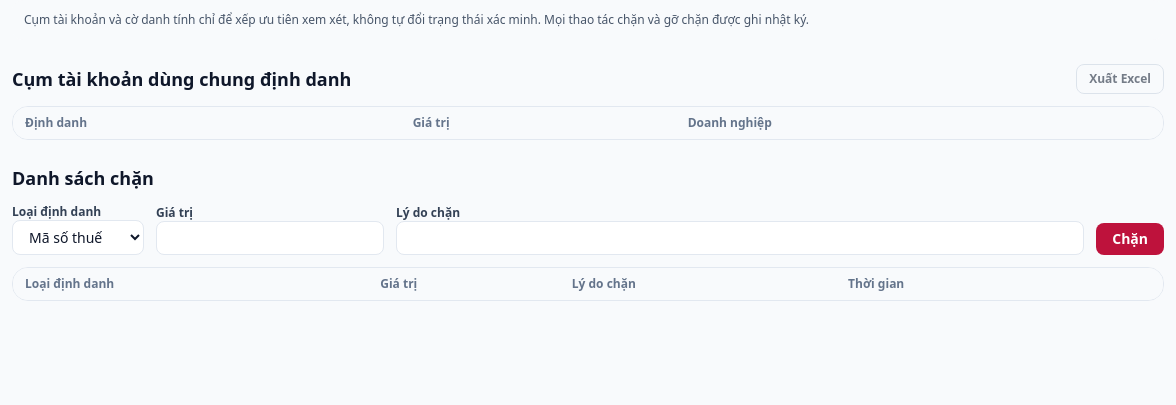
it: Danh tính & chặn (I11) › thiếu lý do thì không gửi
In the field labelled "Giá trị": (270, 238) [156, 221, 384, 255], type "0314892345"
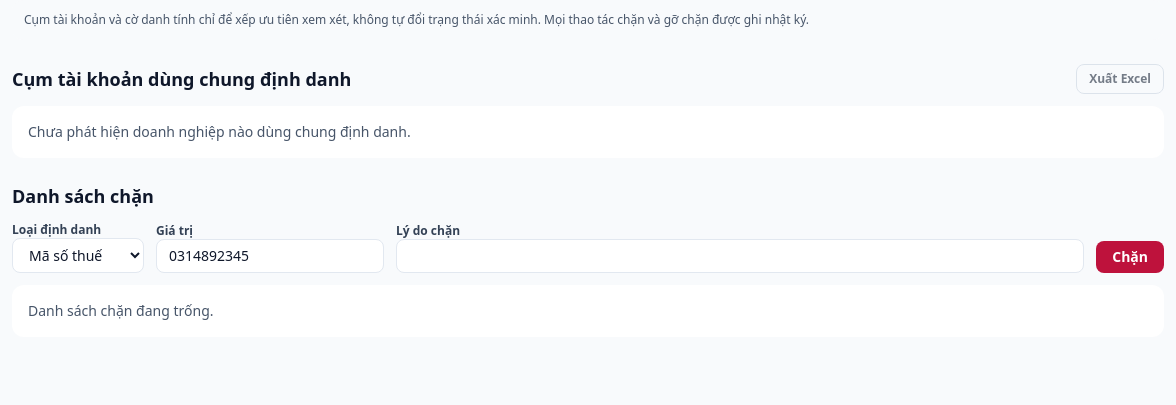
Click the button "Chặn": (1130, 257) [1096, 241, 1164, 273]
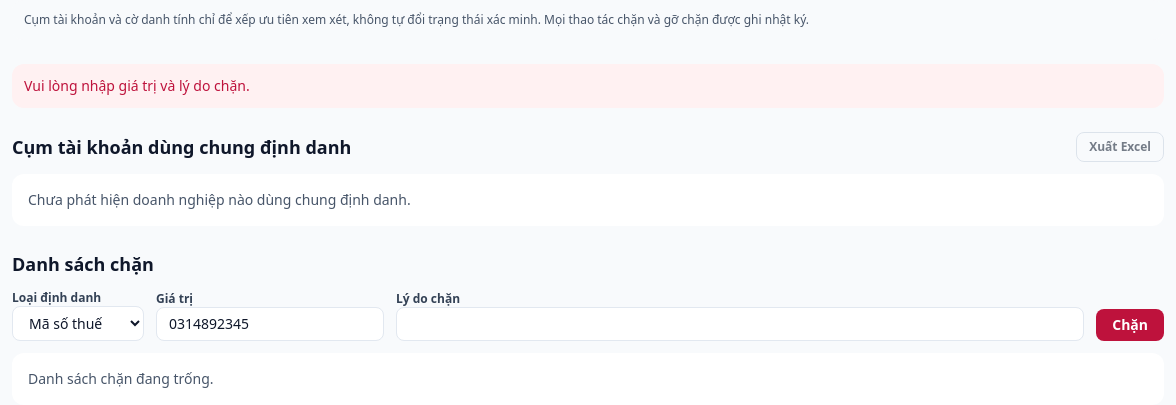
Result: the message "Vui lòng nhập giá trị và lý do chặn." is shown at [12, 64, 1164, 108]
